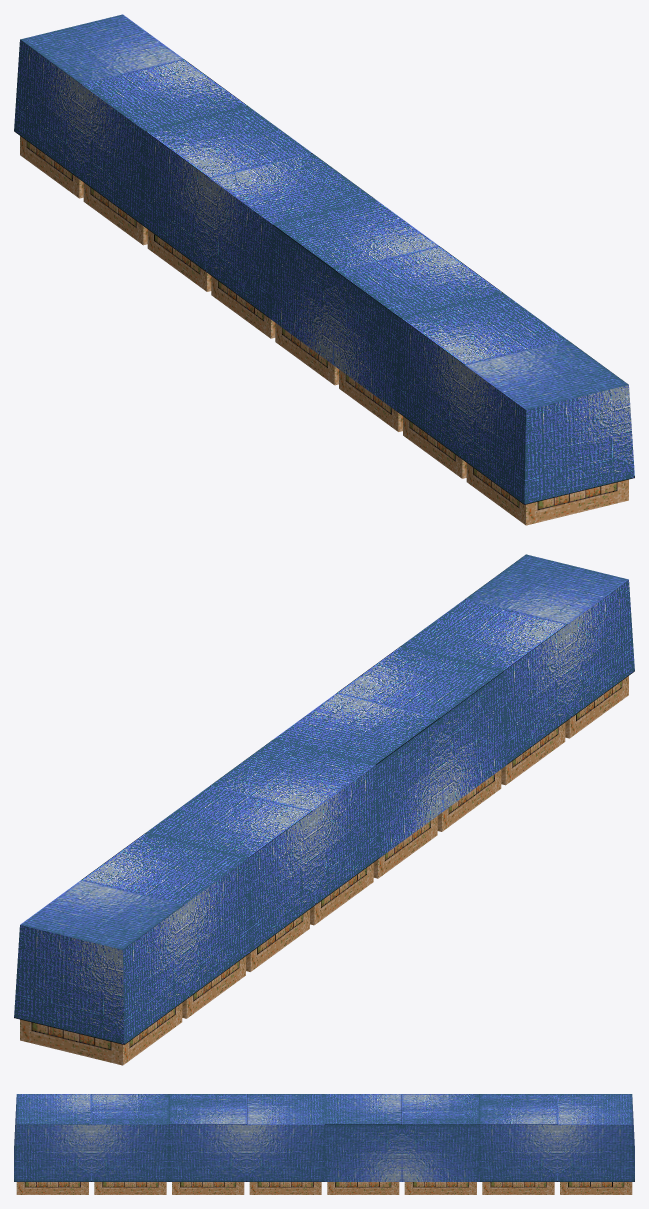
Rendered from CajasLineaTapada-8x1x1.fbx.
The picture shows the model from 3 angles, top to bottom: view 1: azimuth 30°, elevation 25°; view 2: azimuth 150°, elevation 25°; view 3: azimuth 270°, elevation 25°; orthographic projection. The views are drawn at different scales.
Parts seen in each view (by area): view 1: CajasLineaTapada-8x1x1; view 2: CajasLineaTapada-8x1x1; view 3: CajasLineaTapada-8x1x1.
Boxes of the visible parts, x1,y1,x2,y2 form: CajasLineaTapada-8x1x1: (14,14,634,525); CajasLineaTapada-8x1x1: (14,554,634,1065); CajasLineaTapada-8x1x1: (14,1094,634,1194).
Bounding box in the file's own units: 1 × 1 × 8.
